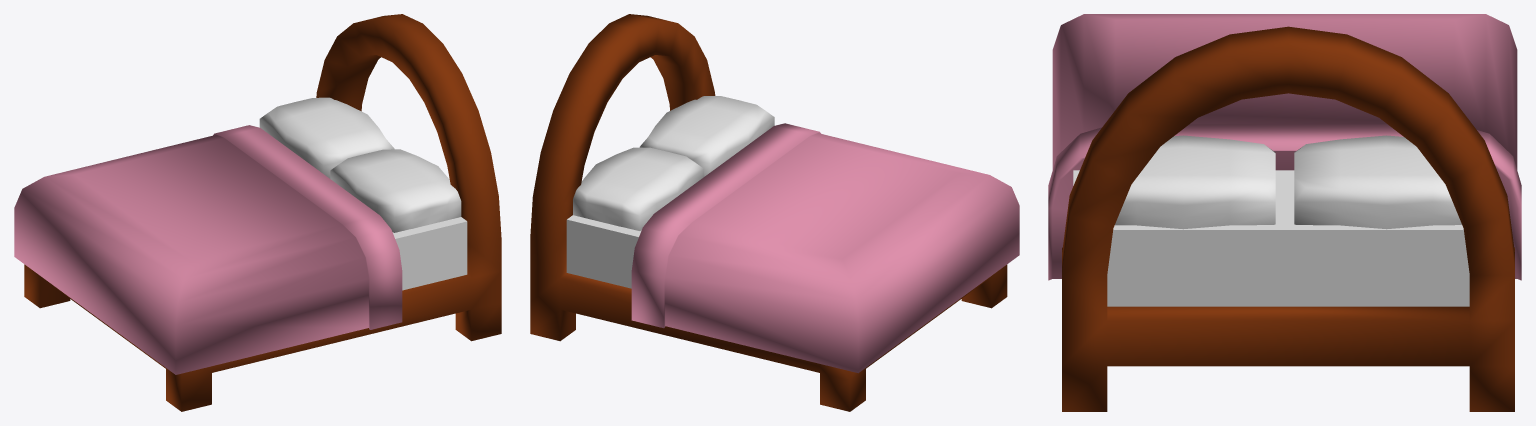
Rendered from bed.fbx.
The picture shows the model from 3 angles, left to right: view 1: azimuth 30°, elevation 25°; view 2: azimuth 150°, elevation 25°; view 3: azimuth 270°, elevation 25°; orthographic projection. The views are drawn at different scales.
Parts seen in each view (by area): view 1: Cube.001, bedframe, Cube.002, Cube; view 2: Cube.001, bedframe, Cube.002, Cube; view 3: bedframe, Cube.001, Cube, Cube.002.
Part boxes in pixels (x1,y1,x2,y2): Cube.001: (14, 125, 402, 374); bedframe: (24, 14, 501, 411); Cube.002: (259, 97, 461, 232); Cube: (392, 217, 467, 290); Cube.001: (631, 123, 1019, 373); bedframe: (530, 14, 1007, 411); Cube.002: (573, 96, 774, 230); Cube: (566, 215, 641, 288); bedframe: (1062, 26, 1514, 411); Cube.001: (1048, 14, 1521, 280); Cube: (1073, 170, 1469, 306); Cube.002: (1115, 135, 1461, 229).
Bounding box in the file's own units: 776 × 569 × 671.
